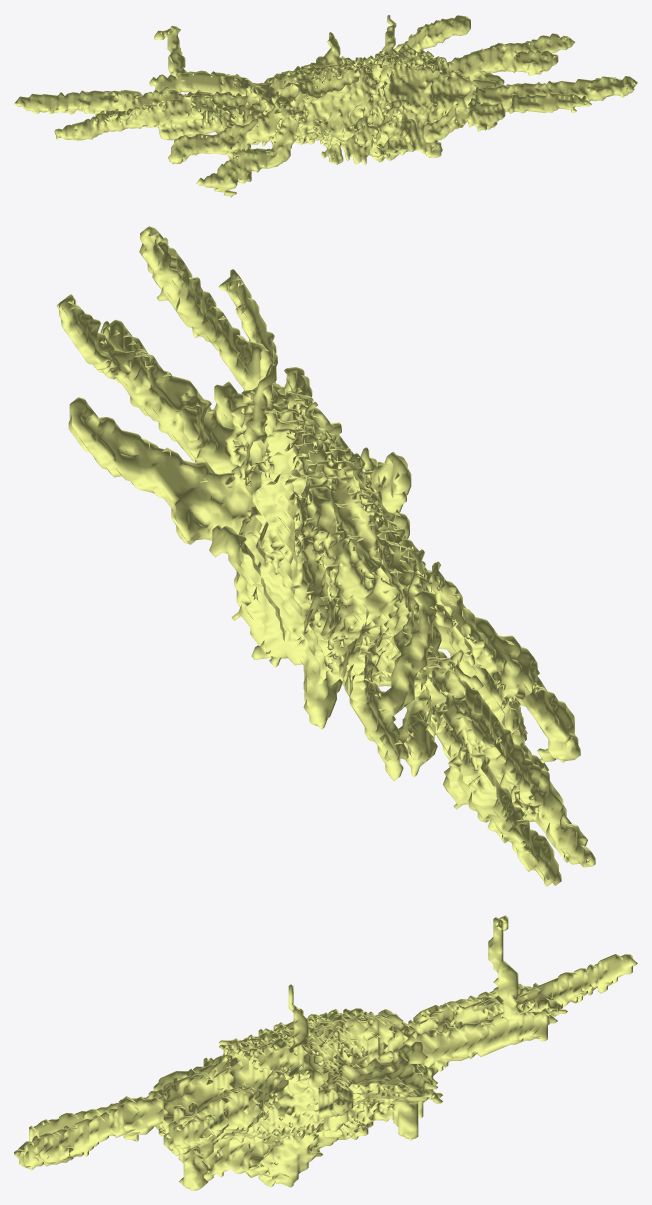
Rendered from osteocyte_44.glb.
3 views of the same model, one above another, from view 1: azimuth 30°, elevation 25°; view 2: azimuth 150°, elevation 25°; view 3: azimuth 270°, elevation 25° (orthographic). The views are drawn at different scales.
Visible parts, largest first — view 1: osteocyte_44; view 2: osteocyte_44; view 3: osteocyte_44.
Boxes of the visible parts, x1,y1,x2,y2 form: osteocyte_44: (14, 15, 637, 197); osteocyte_44: (56, 226, 595, 886); osteocyte_44: (14, 915, 637, 1190).
Size of the model in its own units: 68.37 by 24.07 by 60.18.
